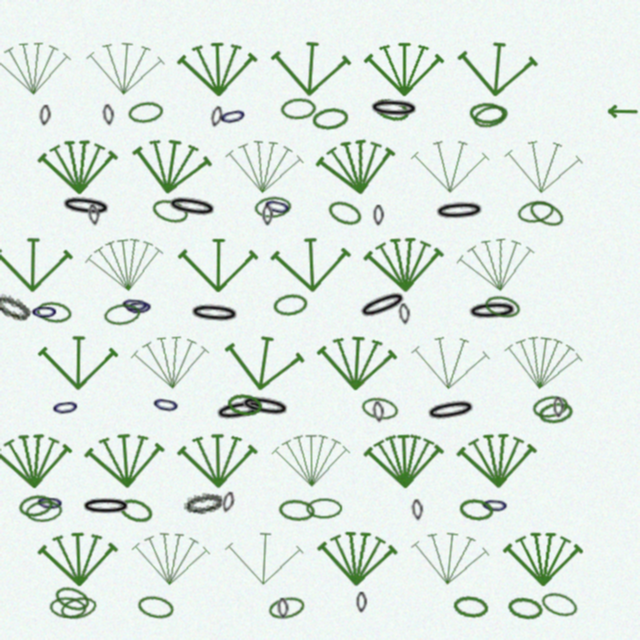chain: (355, 286, 411, 324), (213, 396, 267, 425), (238, 392, 292, 421), (424, 396, 478, 425), (165, 193, 219, 221), (59, 193, 113, 220), (526, 197, 567, 231), (188, 301, 241, 326), (325, 197, 365, 229), (433, 199, 486, 223), (466, 299, 519, 323), (539, 589, 580, 620), (116, 495, 156, 526), (52, 583, 92, 614), (371, 95, 411, 125), (150, 196, 190, 226), (368, 97, 420, 120), (182, 489, 224, 517), (0, 290, 34, 324), (471, 102, 510, 131), (483, 293, 522, 321), (80, 496, 132, 517), (59, 594, 98, 622), (136, 593, 175, 621), (267, 594, 306, 622), (360, 395, 400, 422), (516, 198, 555, 225), (531, 393, 570, 420), (17, 492, 55, 519), (537, 400, 575, 426), (506, 595, 544, 621), (311, 106, 349, 131), (35, 300, 73, 325), (103, 302, 141, 327), (127, 100, 164, 125), (272, 292, 309, 317), (226, 392, 263, 417), (458, 497, 495, 522), (452, 594, 489, 619), (254, 195, 292, 219), (25, 499, 63, 523), (261, 193, 294, 220), (278, 498, 315, 522), (49, 596, 87, 619), (280, 97, 317, 120), (217, 103, 249, 129), (150, 392, 182, 417), (469, 102, 505, 124), (306, 498, 342, 519), (50, 395, 81, 419), (120, 293, 150, 316), (35, 491, 65, 514), (124, 296, 154, 318), (480, 494, 510, 516), (30, 301, 59, 322), (220, 491, 236, 514), (209, 106, 224, 128), (87, 204, 101, 226), (102, 104, 115, 126), (398, 303, 411, 325), (372, 401, 385, 423), (411, 499, 424, 521), (39, 105, 51, 126), (277, 598, 289, 619), (262, 205, 273, 226), (373, 205, 384, 226), (553, 397, 564, 418), (356, 592, 367, 613)
fan: (127, 130, 215, 201), (313, 131, 400, 201), (453, 229, 540, 299), (220, 327, 307, 397), (499, 327, 586, 397), (82, 230, 168, 298), (407, 524, 492, 591), (455, 35, 539, 101), (222, 133, 306, 199), (501, 133, 585, 199), (408, 329, 492, 395), (83, 35, 167, 100), (83, 427, 167, 492), (269, 35, 352, 100), (129, 329, 212, 394), (315, 330, 398, 394), (129, 526, 212, 590), (270, 232, 352, 295), (363, 232, 445, 295), (456, 428, 538, 491), (223, 526, 305, 589), (316, 526, 398, 589), (37, 135, 119, 197), (363, 429, 445, 491), (37, 527, 119, 589), (177, 37, 258, 99), (177, 429, 258, 490), (410, 135, 490, 196), (38, 331, 118, 392), (271, 429, 351, 490), (364, 38, 444, 98), (178, 234, 258, 294), (503, 528, 583, 588), (0, 428, 74, 492), (0, 36, 73, 99), (0, 233, 73, 294)
noise: (605, 105, 638, 118)
